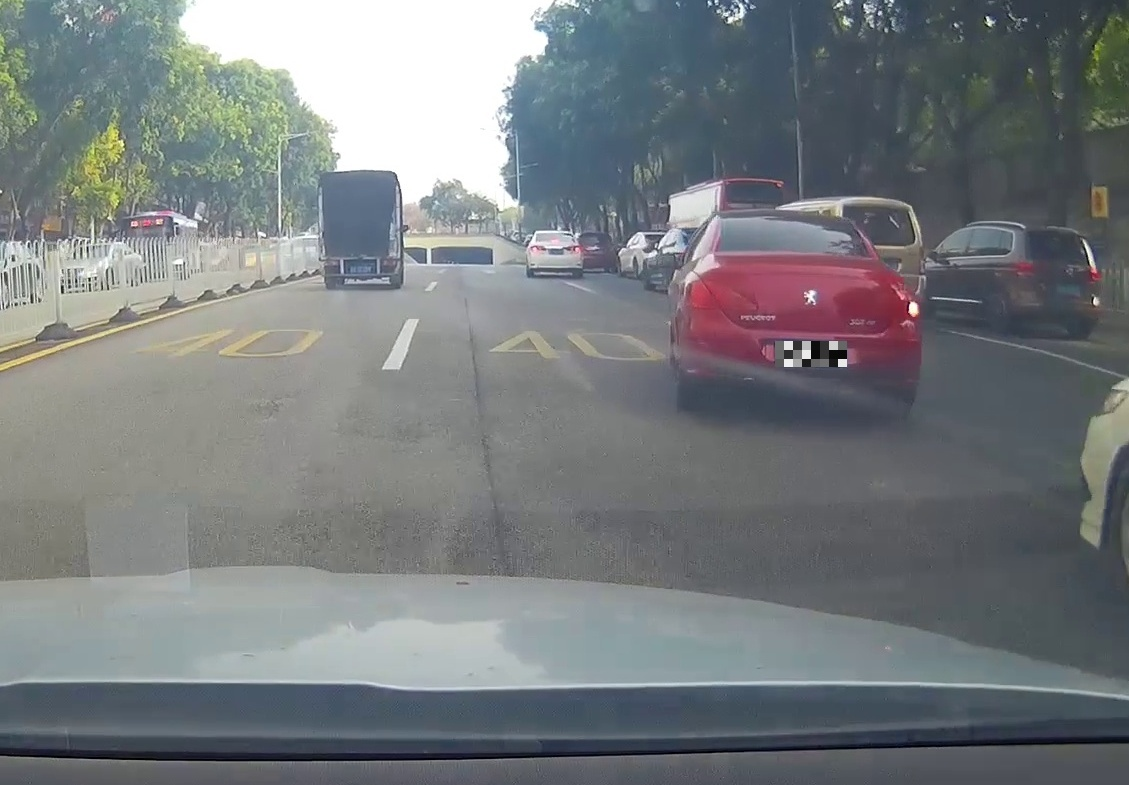L_light: (688, 279, 759, 312), (1010, 261, 1037, 278), (323, 259, 339, 266), (530, 246, 547, 252)
R_light: (886, 284, 921, 319), (1084, 267, 1101, 282), (566, 245, 582, 252), (383, 259, 396, 266)
T_light: (774, 214, 803, 220), (347, 254, 368, 257), (1046, 228, 1058, 231), (549, 239, 560, 241)
day-brake: (526, 230, 583, 278)
day-no: (1008, 224, 1103, 341), (318, 170, 401, 288)
day-right: (679, 209, 923, 415)
plate_1: (775, 341, 847, 367)
